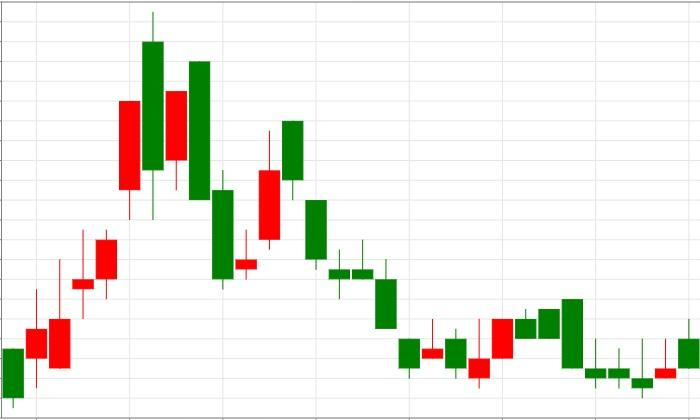bearish_engulfing_fall: (2, 11, 165, 408)
three_black_crows_fall: (211, 120, 351, 300)
